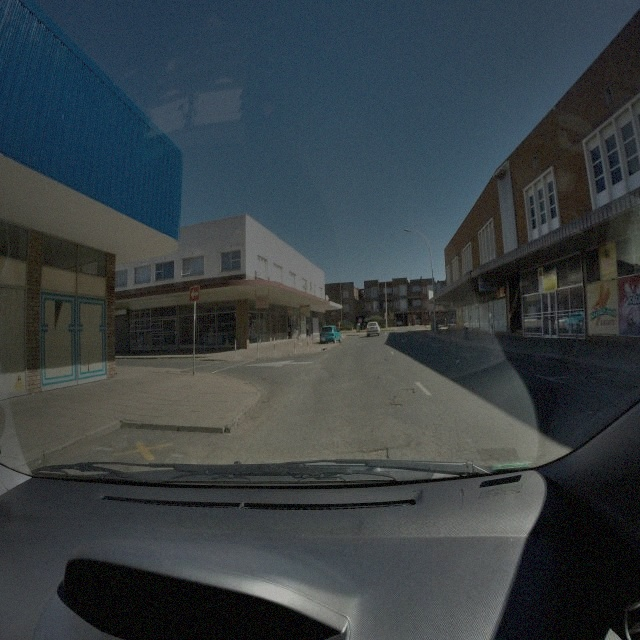pothole: (354, 444, 389, 456), (388, 399, 402, 412), (400, 388, 414, 396), (362, 374, 380, 380)
